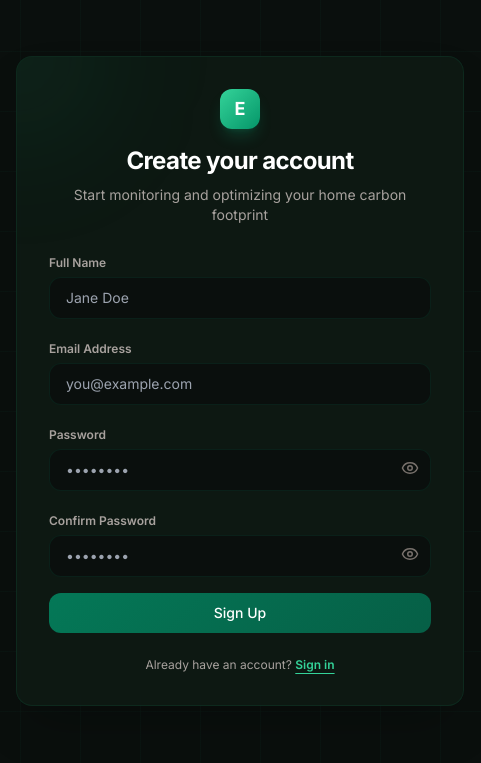
Scenario: RegisterPage validations and flows › validates name, email, and password complexity rules
The image size is (481, 763).
Click the button "Sign Up" at (240, 613), box [49,593,431,633]
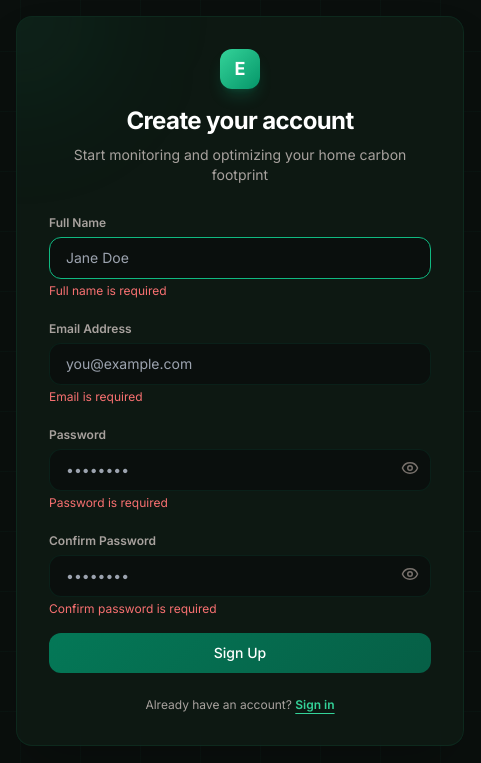
expect the text "Full name is required" is shown: met, box [49,283,167,298]
expect the text "Email is required" is shown: met, box [49,389,143,404]
expect the text "Password is required" is shown: met, box [49,495,168,510]
